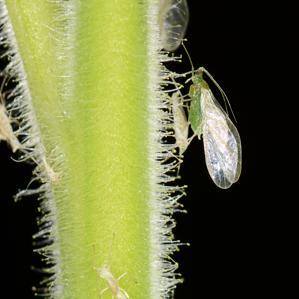Green peach aphid: (151, 52, 265, 199)
